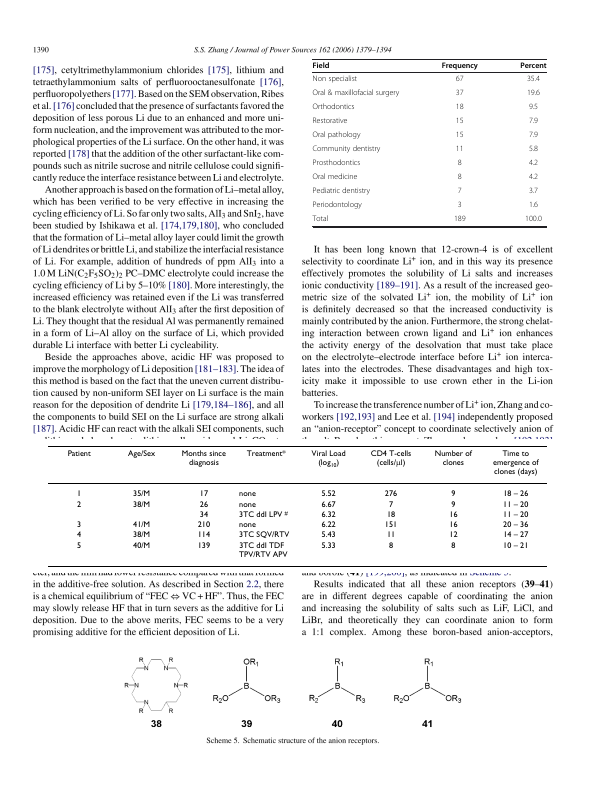borderless: (47, 444, 547, 566), (311, 58, 546, 226)
cell: (491, 448, 539, 477), (238, 540, 288, 559), (369, 447, 412, 469), (312, 89, 400, 99), (180, 448, 226, 467), (310, 448, 346, 469), (433, 448, 472, 467), (312, 145, 381, 155), (312, 187, 371, 197), (238, 530, 290, 540), (312, 201, 363, 211), (238, 509, 288, 519), (312, 131, 361, 141), (312, 159, 361, 169), (312, 75, 358, 85), (312, 173, 358, 183), (312, 103, 355, 113), (245, 448, 286, 458), (312, 117, 348, 127), (441, 62, 479, 71), (126, 448, 156, 458), (502, 489, 529, 499), (502, 499, 529, 509), (502, 520, 529, 530), (502, 530, 529, 540), (502, 540, 529, 550), (519, 62, 547, 71), (66, 448, 91, 458), (502, 510, 529, 519), (524, 215, 543, 225), (132, 489, 151, 499), (132, 499, 151, 509), (132, 520, 151, 530), (132, 530, 151, 540), (132, 540, 151, 550), (238, 489, 256, 499), (238, 499, 256, 509), (238, 520, 256, 530), (312, 215, 329, 225), (312, 62, 330, 71), (320, 489, 336, 499), (320, 499, 336, 509), (320, 520, 336, 530), (320, 530, 336, 540), (320, 540, 336, 550), (526, 75, 541, 85), (526, 89, 541, 99), (383, 489, 398, 499), (196, 520, 211, 530), (383, 520, 398, 530), (196, 530, 211, 540), (196, 540, 211, 550), (320, 510, 336, 519), (453, 215, 466, 225), (528, 103, 539, 113), (528, 117, 539, 127), (528, 131, 539, 141), (528, 145, 539, 155), (528, 159, 539, 169), (528, 173, 539, 183), (528, 187, 539, 197), (528, 201, 539, 211), (198, 489, 209, 499), (198, 499, 209, 509), (385, 530, 396, 540), (448, 520, 458, 530), (448, 530, 458, 540), (198, 510, 209, 519), (385, 510, 396, 519), (455, 75, 464, 85), (455, 89, 464, 99), (455, 103, 464, 113), (455, 117, 464, 127), (455, 131, 464, 141), (455, 145, 464, 155), (448, 510, 458, 519), (387, 499, 394, 509), (387, 540, 394, 550), (457, 159, 463, 169), (457, 173, 463, 183), (457, 187, 463, 197), (457, 201, 463, 211), (76, 489, 82, 499), (450, 489, 456, 499), (76, 499, 82, 509), (450, 499, 456, 509), (76, 520, 82, 530), (76, 530, 82, 540), (76, 540, 82, 550), (450, 540, 456, 550)
